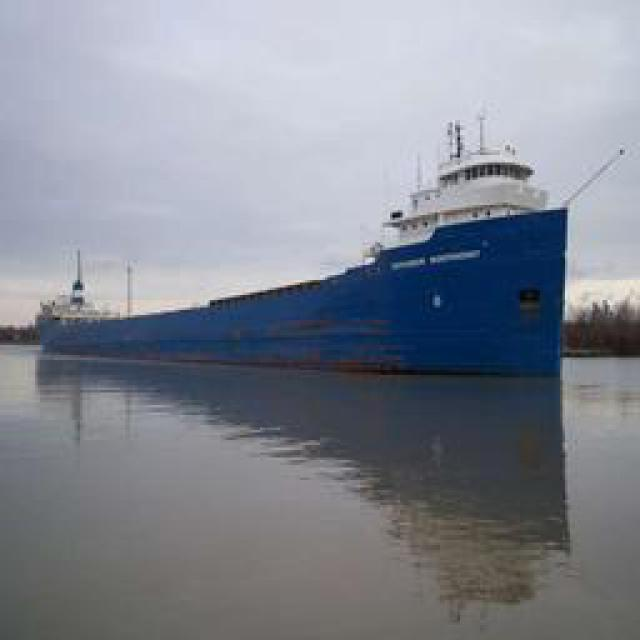Ship: (46, 206, 574, 371)
